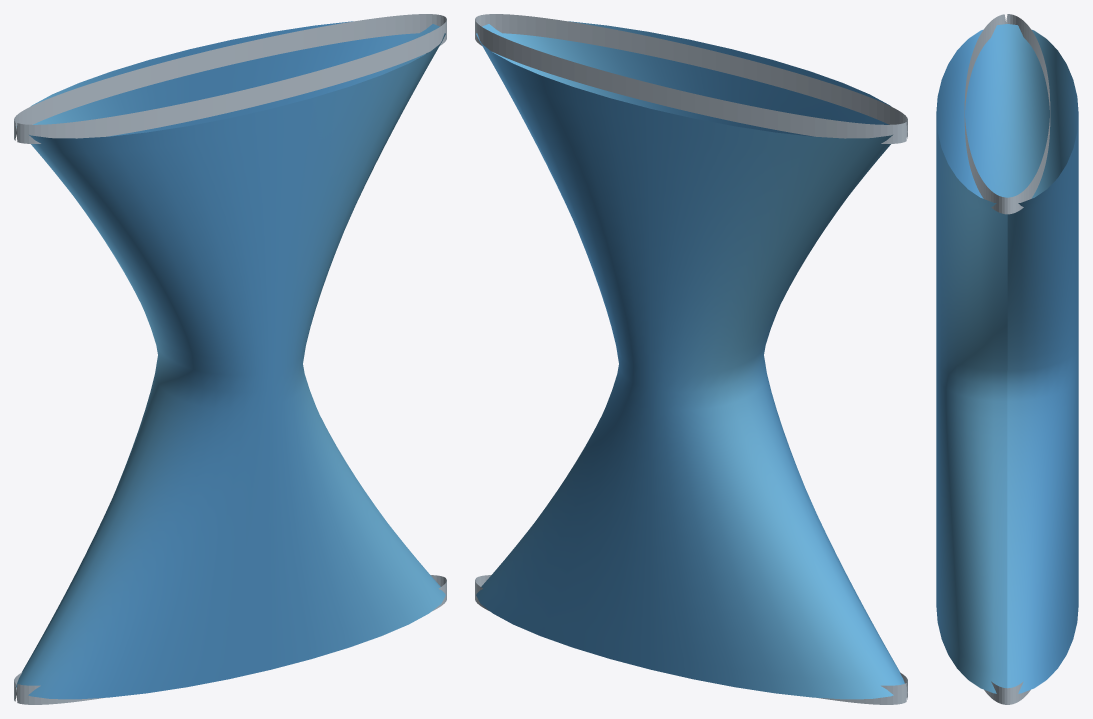
The model's file is Mona_PhantomCardState_TwoInstances_PhantomHollowWater.fbx.
3 renders of one model, left to right at view 1: azimuth 30°, elevation 25°; view 2: azimuth 150°, elevation 25°; view 3: azimuth 270°, elevation 25°, orthographic. The views are drawn at different scales.
Parts seen in each view (by area): view 1: PART_HollowHourglassWaterPhantom, PART_PhantomWaterLip_1, PART_PhantomWaterLip_0; view 2: PART_HollowHourglassWaterPhantom, PART_PhantomWaterLip_1, PART_PhantomWaterLip_0; view 3: PART_HollowHourglassWaterPhantom, PART_PhantomWaterLip_1, PART_PhantomWaterLip_0.
Part boxes in pixels (bbox=[...]): PART_HollowHourglassWaterPhantom: bbox=[16, 21, 445, 699]; PART_PhantomWaterLip_1: bbox=[14, 14, 446, 143]; PART_PhantomWaterLip_0: bbox=[14, 575, 446, 704]; PART_HollowHourglassWaterPhantom: bbox=[476, 21, 904, 699]; PART_PhantomWaterLip_1: bbox=[475, 14, 907, 143]; PART_PhantomWaterLip_0: bbox=[475, 575, 907, 704]; PART_HollowHourglassWaterPhantom: bbox=[936, 24, 1078, 693]; PART_PhantomWaterLip_1: bbox=[964, 14, 1050, 214]; PART_PhantomWaterLip_0: bbox=[984, 681, 1030, 704].
Size of the model in its own units: 122 by 157 by 40.
